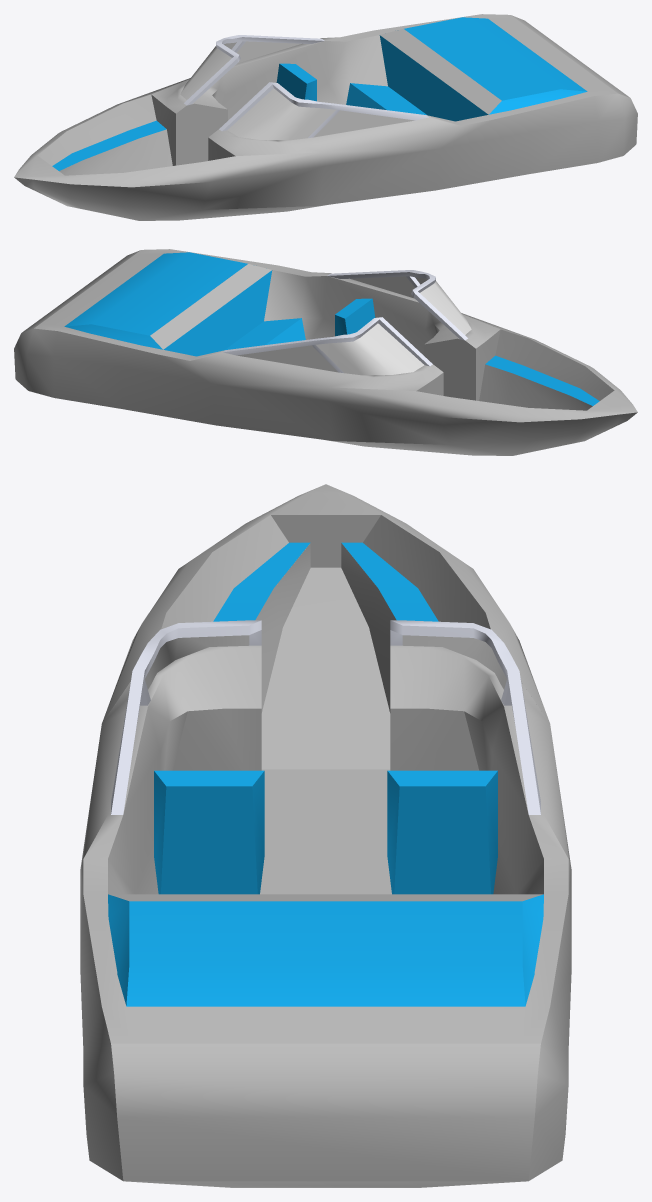
Rendered from bay-speedboat.lod0.glb.
3 renders of one model, top to bottom at view 1: azimuth 30°, elevation 25°; view 2: azimuth 150°, elevation 25°; view 3: azimuth 270°, elevation 25°, orthographic. The views are drawn at different scales.
Parts seen in each view (by area): view 1: 0_Hard Rough Plastic Grey_0, CHROME_Chrome Polished_0; view 2: 0_Hard Rough Plastic Grey_0, CHROME_Chrome Polished_0; view 3: 0_Hard Rough Plastic Grey_0, CHROME_Chrome Polished_0.
Part boxes in pixels (box(x1,y1,x2,y2)): 0_Hard Rough Plastic Grey_0: box(14, 14, 637, 220); CHROME_Chrome Polished_0: box(52, 17, 587, 170); 0_Hard Rough Plastic Grey_0: box(14, 249, 637, 455); CHROME_Chrome Polished_0: box(64, 252, 599, 405); 0_Hard Rough Plastic Grey_0: box(80, 484, 571, 1187); CHROME_Chrome Polished_0: box(108, 542, 543, 1006).
Size of the model in its own units: 6.5 by 1.62 by 2.42.
